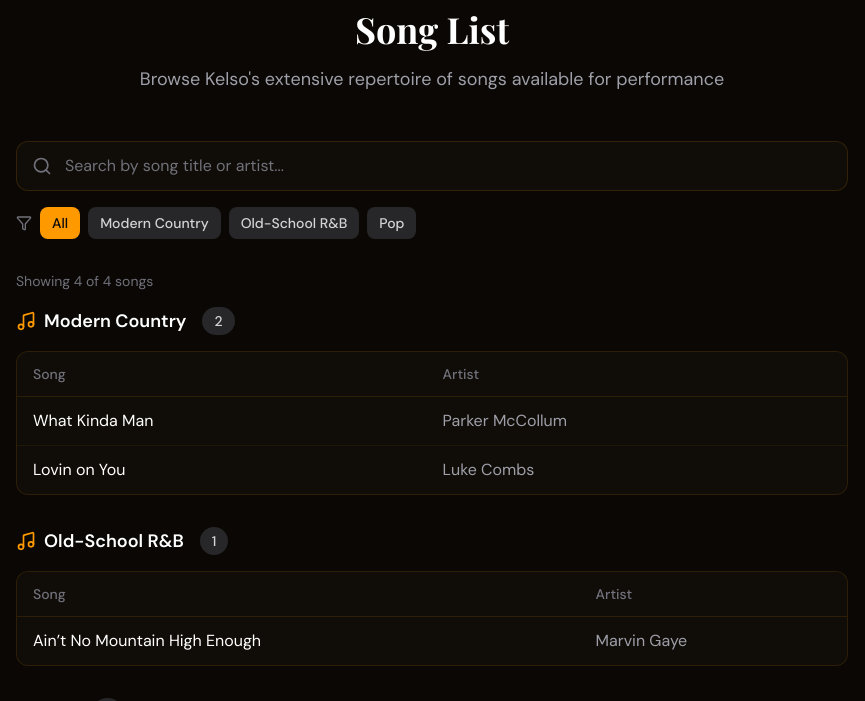
SongsClient › resets the genre filter when "All" is clicked
The image size is (865, 701).
Click the button "Modern Country" at [154, 223], box [88,207,221,239]
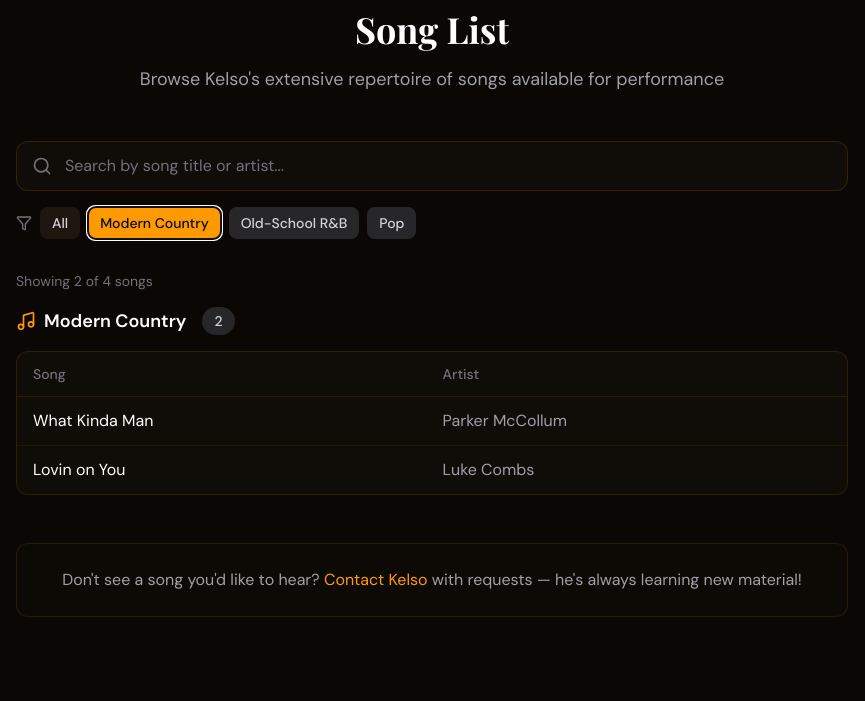
Check: the text "Showing 2 of 4 songs" is shown, box [16,272,153,290]
Click the button "All" at [60, 223], box [40,207,80,239]
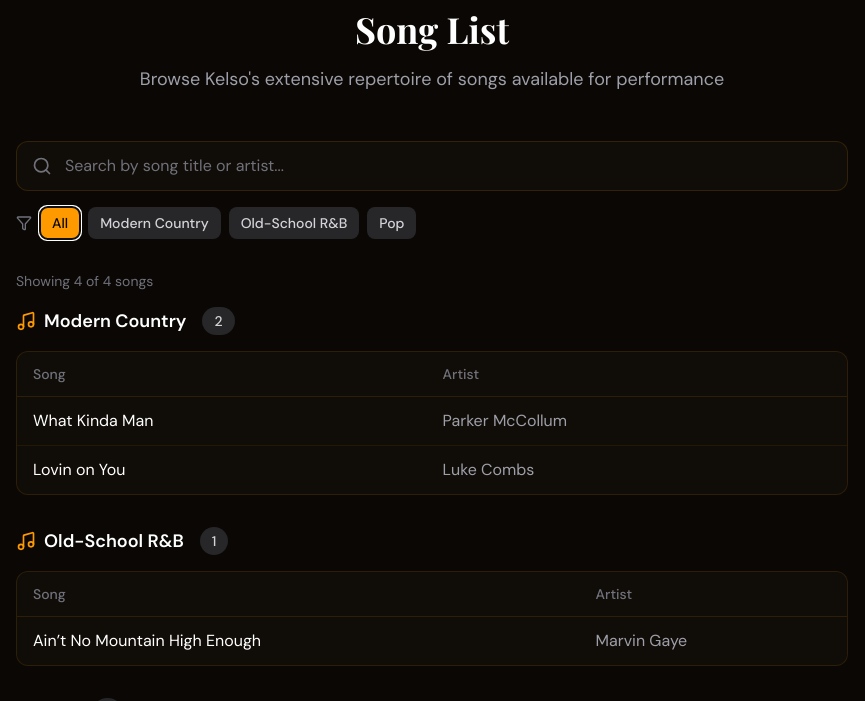
Check: the text "Showing 4 of 4 songs" is shown, box [16,272,153,290]
